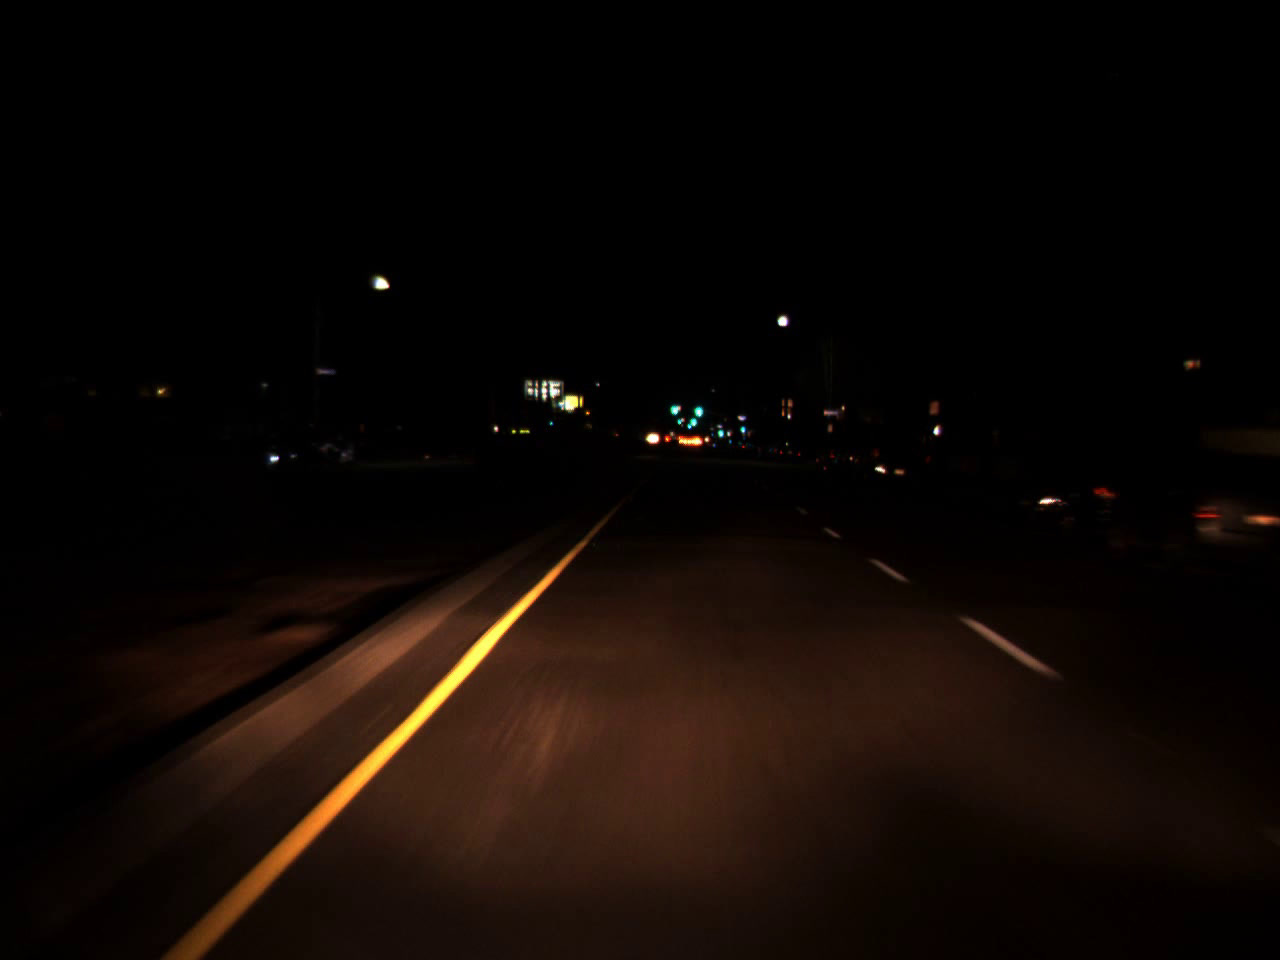go: (668, 394, 678, 418), (693, 399, 703, 417), (688, 410, 697, 428), (716, 423, 723, 438), (685, 416, 692, 431), (676, 413, 683, 425)
